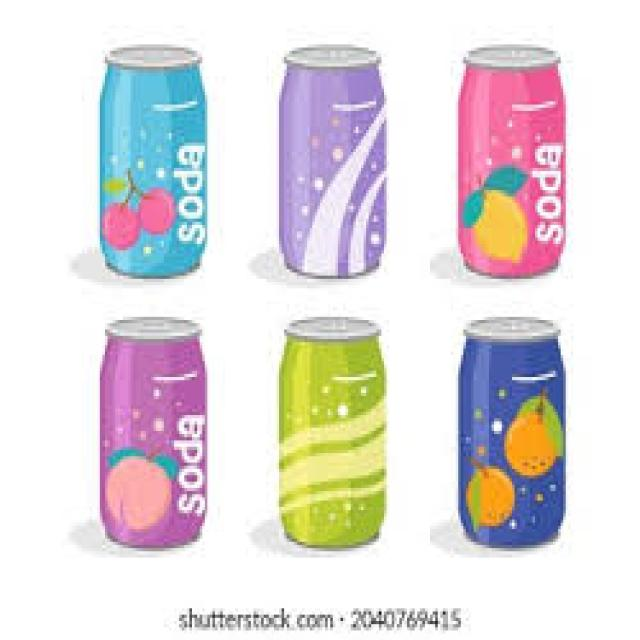Cans: (448, 308, 579, 552), (92, 32, 215, 282), (274, 308, 397, 554), (94, 310, 218, 554), (448, 32, 571, 276), (274, 32, 394, 282)
